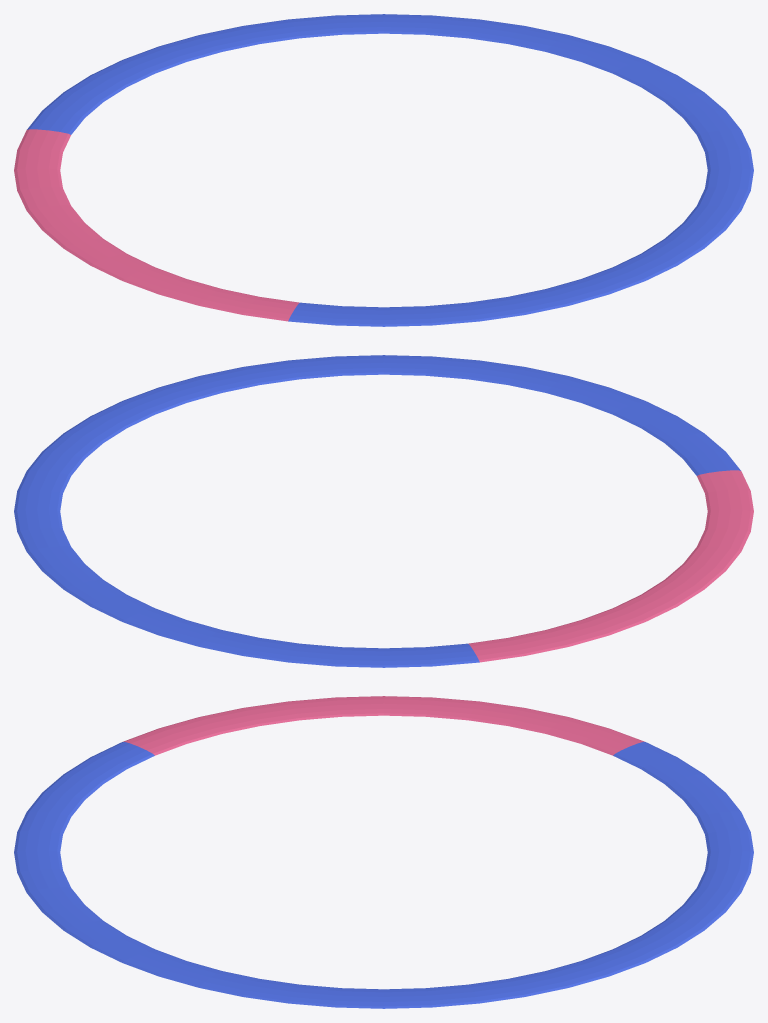
File: circle_marker.dae
3 views of the same model, one above another, from view 1: azimuth 30°, elevation 25°; view 2: azimuth 150°, elevation 25°; view 3: azimuth 270°, elevation 25° (orthographic).
Parts seen in each view (by area): view 1: Torus.002, Torus.001; view 2: Torus.002, Torus.001; view 3: Torus.002, Torus.001.
Boxes of the visible parts, left/top/right/bottom form: Torus.002: left=27, top=14, right=753, bottom=326; Torus.001: left=14, top=129, right=299, bottom=321; Torus.002: left=14, top=355, right=740, bottom=667; Torus.001: left=468, top=470, right=753, bottom=662; Torus.002: left=14, top=741, right=753, bottom=1008; Torus.001: left=123, top=696, right=644, bottom=755.
Bounding box in the file's own units: 1.6 × 1.6 × 0.01.
